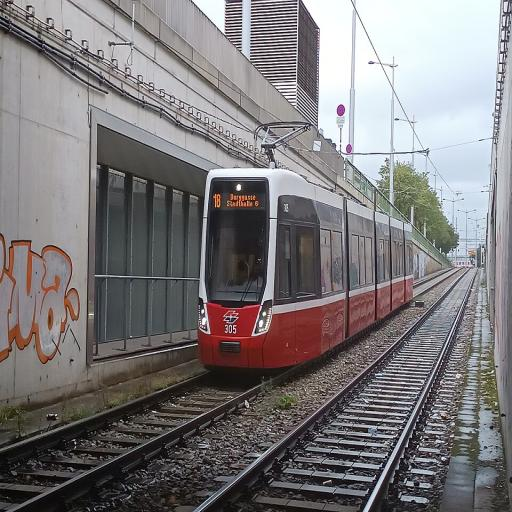Flexity: (197, 166, 415, 375)
